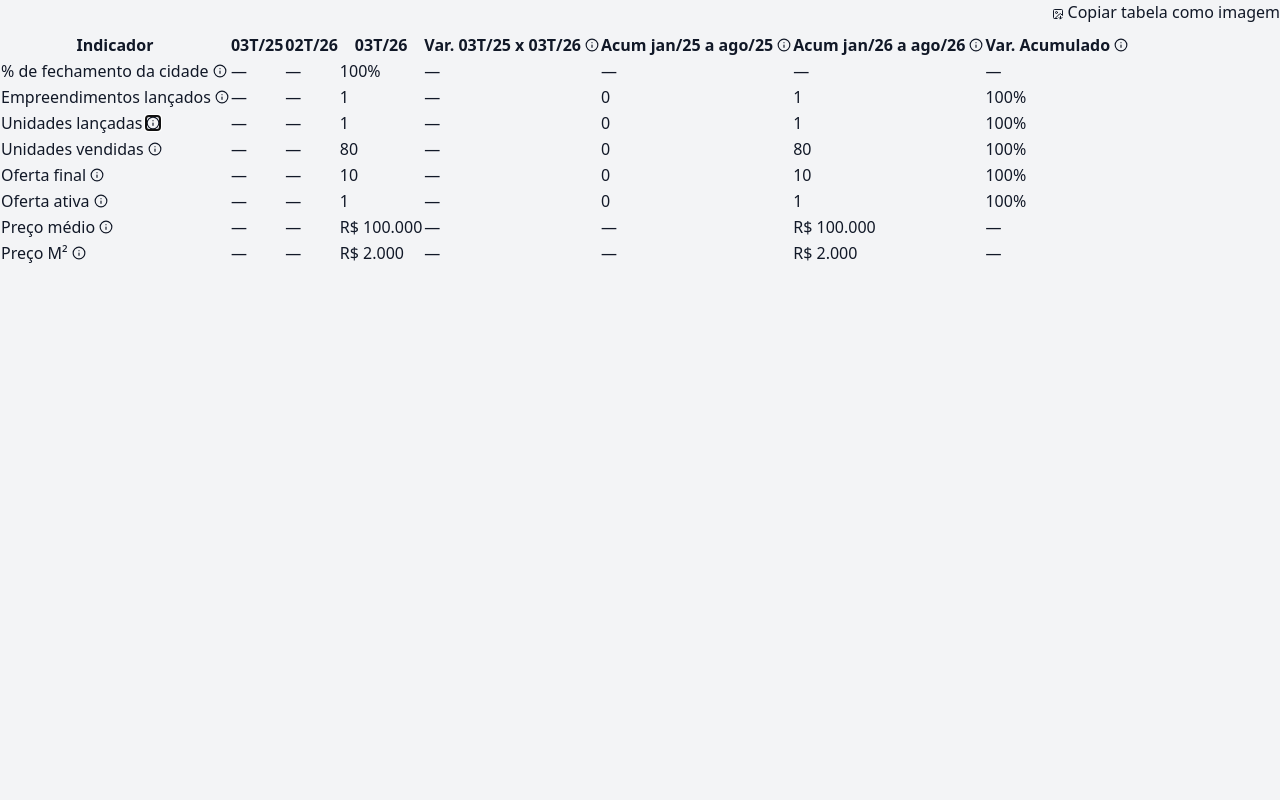
Test case: variação anual do Resumo email › a ajuda de Unidades lançadas descreve a regra vigente
Step 1. Click the button named "Regra de cálculo — Unidades lançadas" → {"x": 153, "y": 123}, box [146,116,160,130]
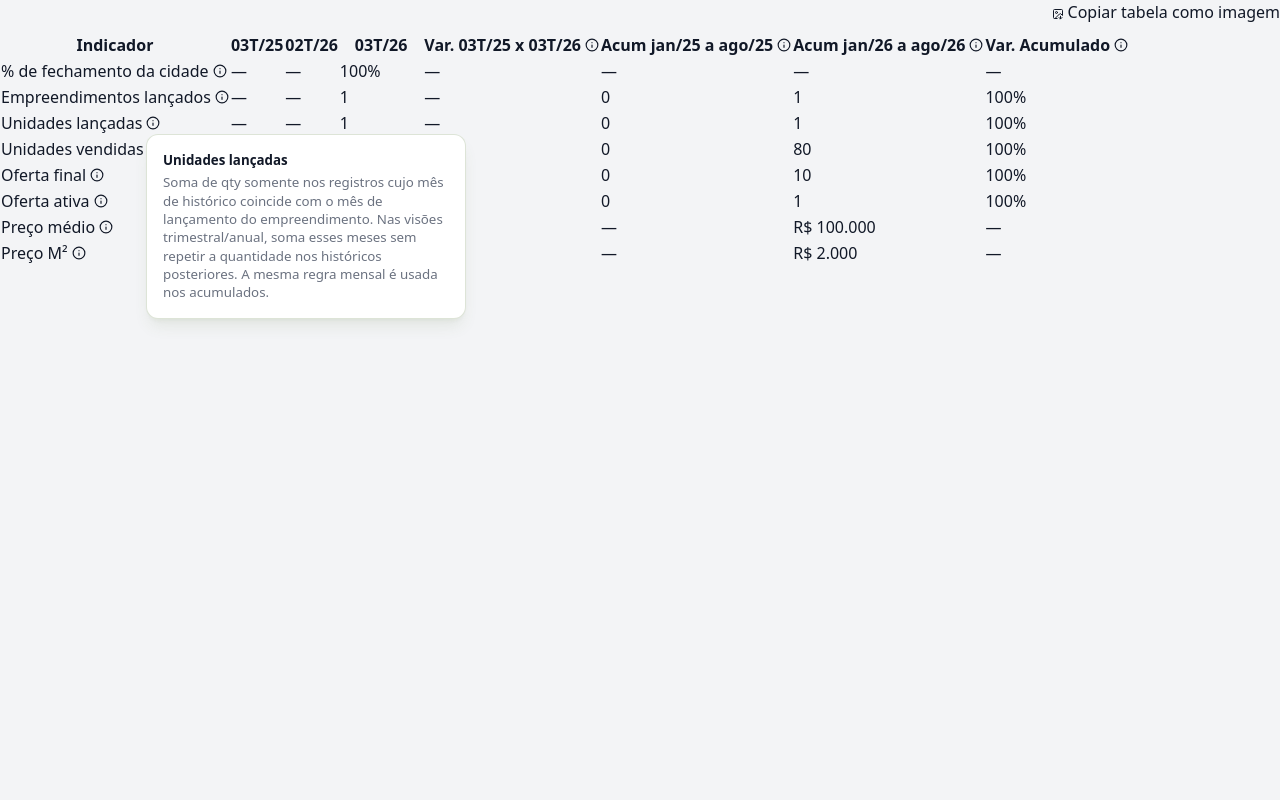
Expected: the dialog shows "sem repetir a quantidade nos históricos posteriores", [163,173,444,301]
Step 2. Press Escape in the dialog, box [146,134,466,318]
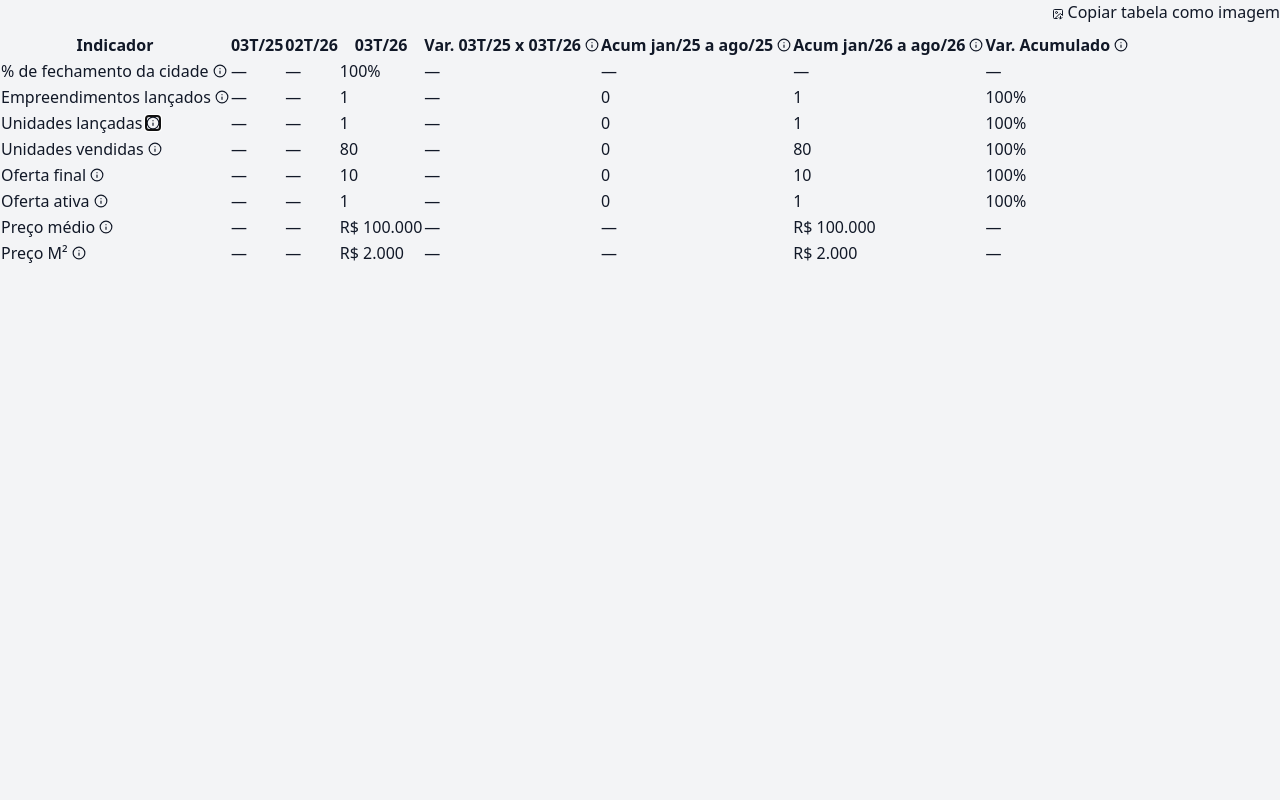
Expected: the dialog is gone
